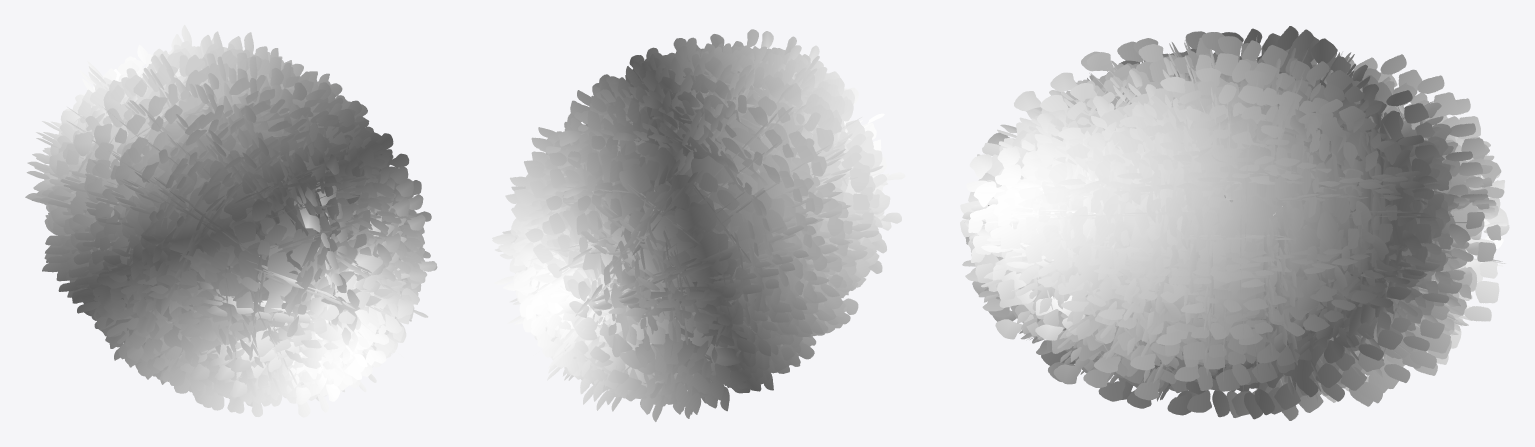
File: Bush_Test_ 2.fbx
The picture shows the model from 3 angles, left to right: view 1: azimuth 30°, elevation 25°; view 2: azimuth 150°, elevation 25°; view 3: azimuth 270°, elevation 25°; orthographic projection. The views are drawn at different scales.
Visible parts, largest first — view 1: MASH3_ReproMesh; view 2: MASH3_ReproMesh; view 3: MASH3_ReproMesh.
Part boxes in pixels (<box>): MASH3_ReproMesh: <box>25,25,437,417</box>; MASH3_ReproMesh: <box>492,29,905,421</box>; MASH3_ReproMesh: <box>960,26,1509,420</box>.
Size of the model in its own units: 3.25 by 3.31 by 4.51.
